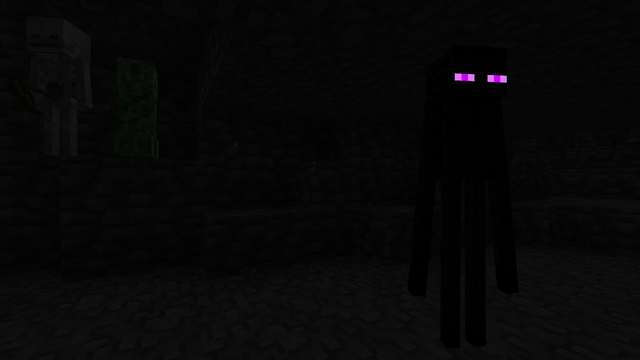creepers: (113, 49, 158, 159)
endermens: (417, 26, 512, 357)
squelettes: (23, 10, 90, 156)
